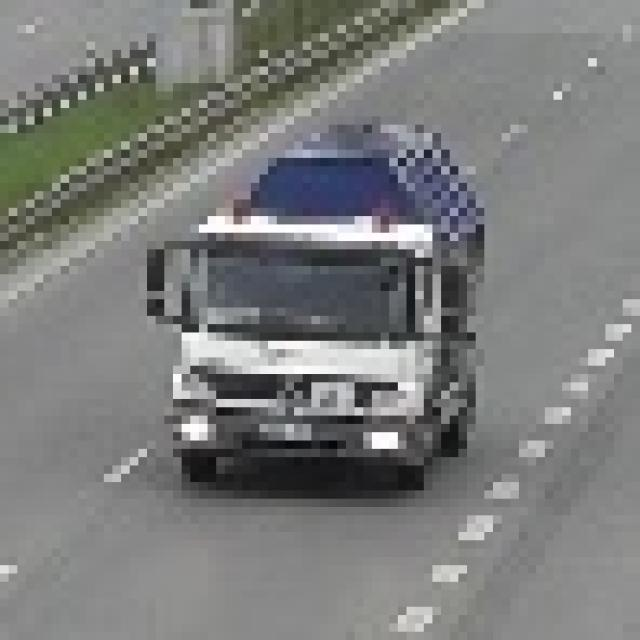car: (138, 100, 484, 482)
